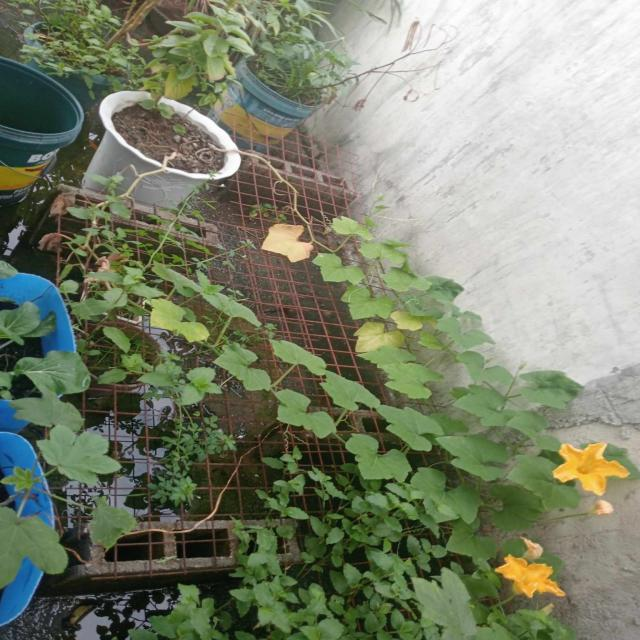flower: (550, 440, 633, 498), (496, 552, 569, 602), (515, 535, 546, 562), (590, 499, 615, 517)
